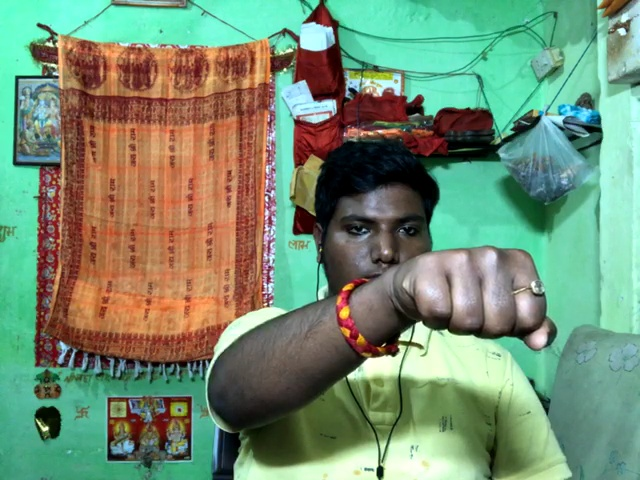Yes: (359, 225, 577, 367)
